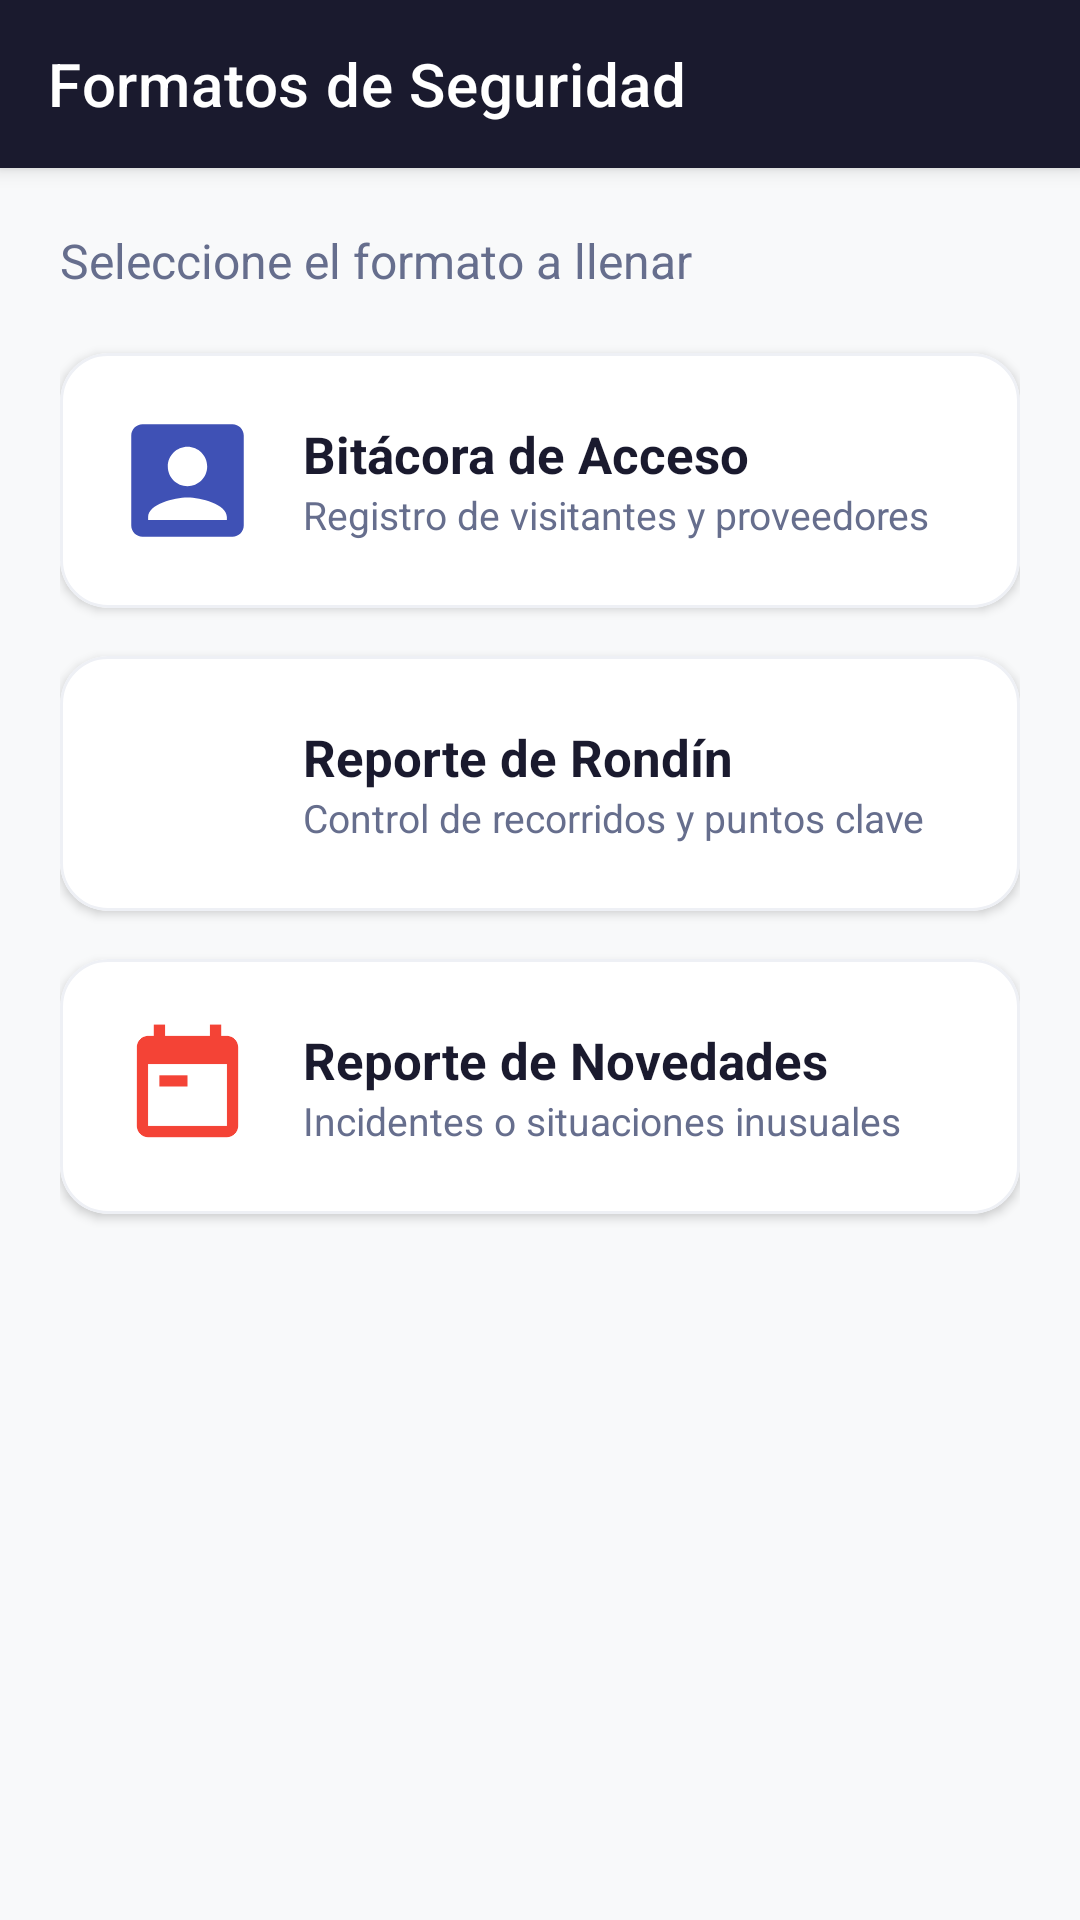

Icon bounding boxes for this 1080×1920 phone screenshot, format region(x1, y1, x2, y2):
badge: region(131, 424, 244, 537)
event note: region(136, 1024, 239, 1138)
